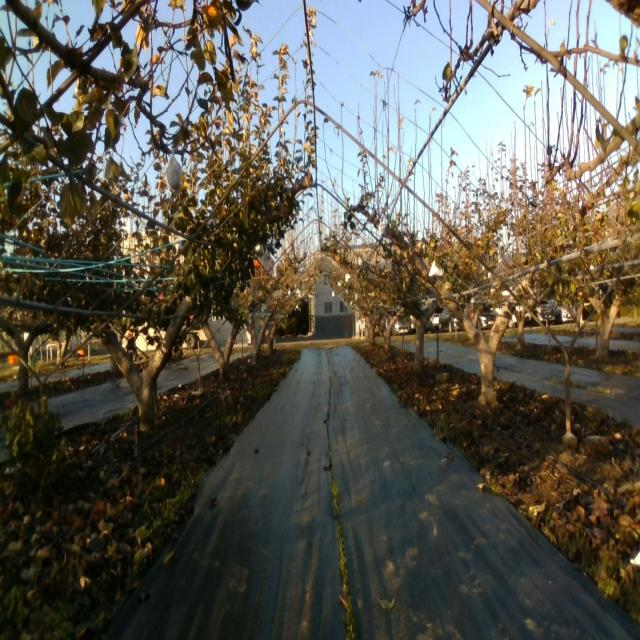pearbags: (166, 148, 182, 196)
